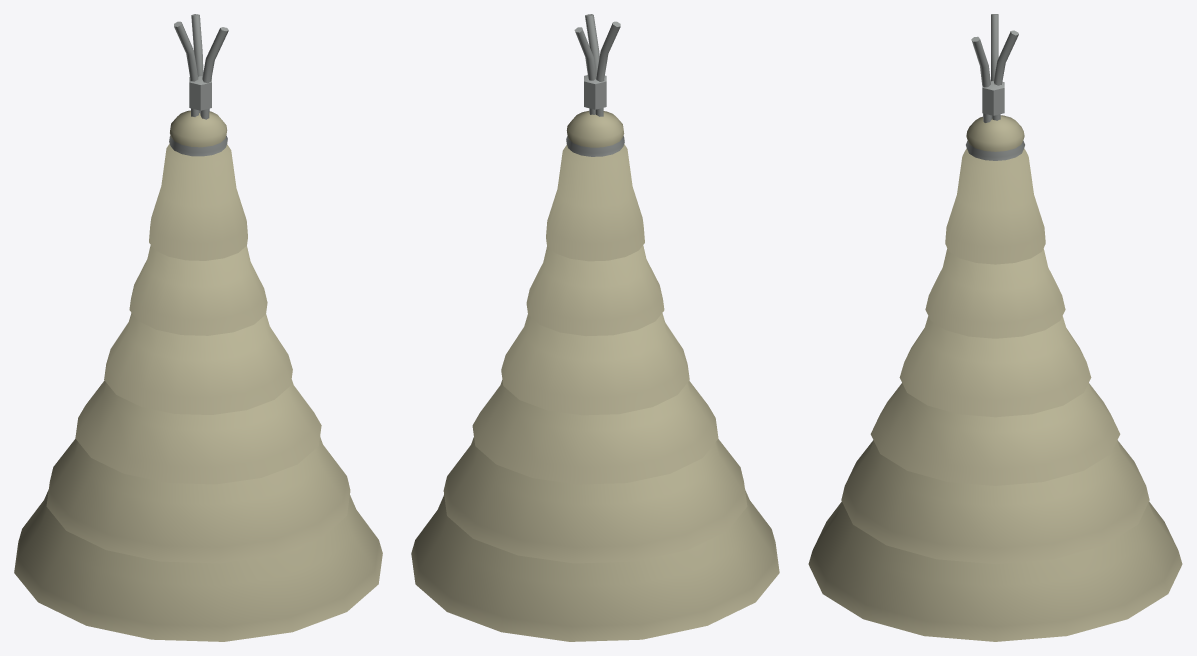
The picture shows the model from 3 angles, left to right: view 1: azimuth 30°, elevation 25°; view 2: azimuth 150°, elevation 25°; view 3: azimuth 270°, elevation 25°; orthographic projection.
Parts seen in each view (by area): view 1: G:\FFXIV-MapTools\exports\y6f2\bg\ex5\02_ykt_y6\fld\y6f2\bgp (×4); view 2: G:\FFXIV-MapTools\exports\y6f2\bg\ex5\02_ykt_y6\fld\y6f2\bgp (×4); view 3: G:\FFXIV-MapTools\exports\y6f2\bg\ex5\02_ykt_y6\fld\y6f2\bgp (×4).
Part boxes in pixels (x1=…): G:\FFXIV-MapTools\exports\y6f2\bg\ex5\02_ykt_y6\fld\y6f2\bgp (×4): x1=14, y1=14, x2=382, y2=641; G:\FFXIV-MapTools\exports\y6f2\bg\ex5\02_ykt_y6\fld\y6f2\bgp (×4): x1=411, y1=14, x2=779, y2=641; G:\FFXIV-MapTools\exports\y6f2\bg\ex5\02_ykt_y6\fld\y6f2\bgp (×4): x1=808, y1=14, x2=1182, y2=641.
Bounding box in the file's own units: 7.17 × 11.66 × 7.3.
